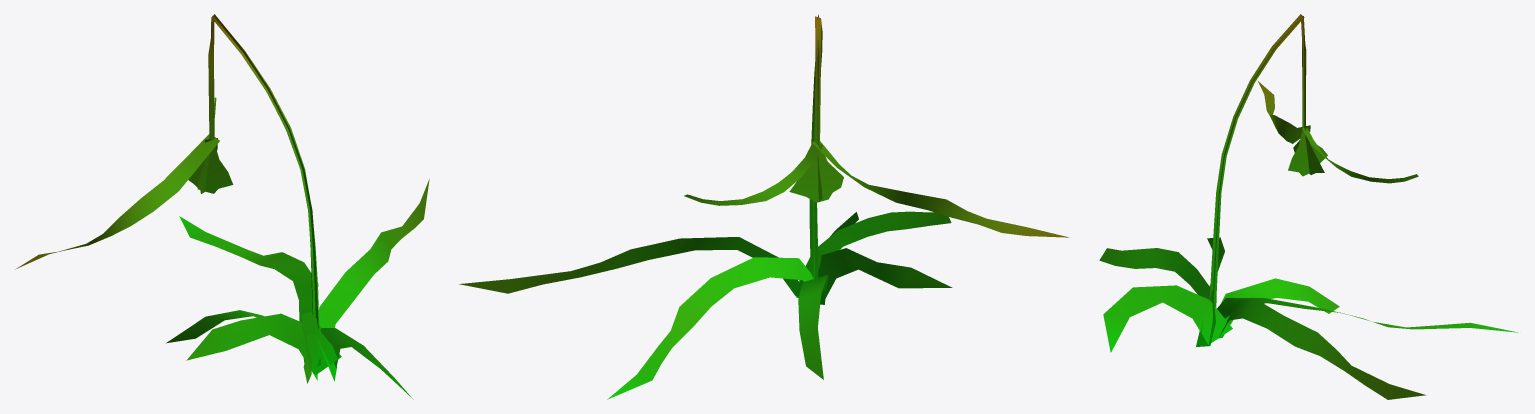
File: S_Dense_Flat-sedge_tgcnee1r_Var6_lod0.FBX
3 views of the same model, side by side, from view 1: azimuth 30°, elevation 25°; view 2: azimuth 150°, elevation 25°; view 3: azimuth 270°, elevation 25° (orthographic). The views are drawn at different scales.
Parts seen in each view (by area): view 1: S_Dense_Flat-sedge_tgcnee1r_Var6_lod0_LOD0; view 2: S_Dense_Flat-sedge_tgcnee1r_Var6_lod0_LOD0; view 3: S_Dense_Flat-sedge_tgcnee1r_Var6_lod0_LOD0.
Boxes of the visible parts, left/top/right/bottom form: S_Dense_Flat-sedge_tgcnee1r_Var6_lod0_LOD0: left=15, top=14, right=429, bottom=399; S_Dense_Flat-sedge_tgcnee1r_Var6_lod0_LOD0: left=459, top=14, right=1069, bottom=399; S_Dense_Flat-sedge_tgcnee1r_Var6_lod0_LOD0: left=1099, top=14, right=1518, bottom=399.
Size of the model in its own units: 20.8 by 16.56 by 13.27.
